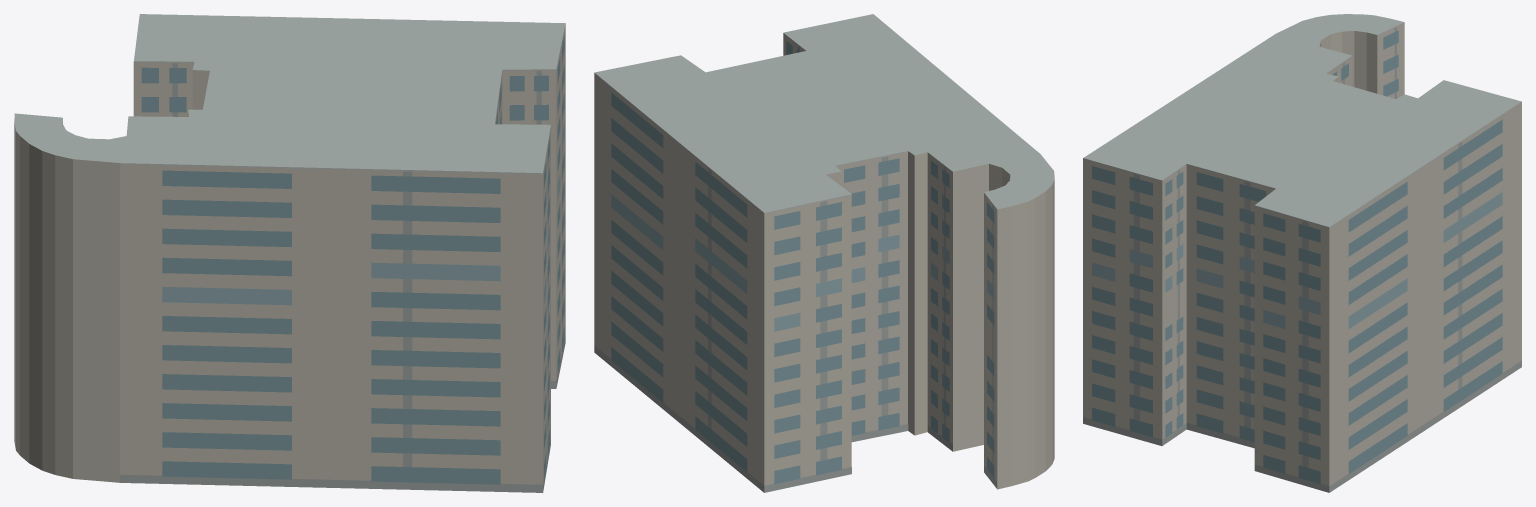
Rendered from survey-upis-32733824.glb.
3 renders of one model, left to right at view 1: azimuth 30°, elevation 25°; view 2: azimuth 150°, elevation 25°; view 3: azimuth 270°, elevation 25°, orthographic. The views are drawn at different scales.
Visible parts, largest first — view 1: survey-upis-32733824.tmp; view 2: survey-upis-32733824.tmp; view 3: survey-upis-32733824.tmp.
Part boxes in pixels (x1=…): survey-upis-32733824.tmp: x1=14, y1=14, x2=565, y2=492; survey-upis-32733824.tmp: x1=594, y1=14, x2=1054, y2=492; survey-upis-32733824.tmp: x1=1083, y1=14, x2=1521, y2=492.
Bounding box in the file's own units: 79.47 × 46.18 × 69.11.
